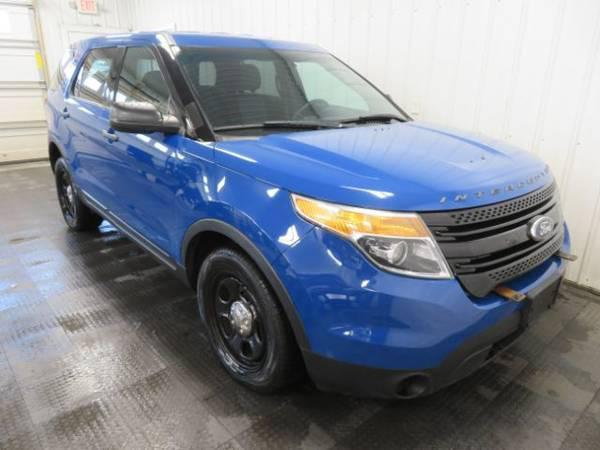Front_Bumper: (267, 227, 578, 403)
Front_Fender: (169, 137, 316, 286)
Front_Right_Door: (108, 113, 191, 278)
Front_Right_Window: (112, 49, 194, 142)
Front_Windshield: (174, 44, 415, 140)
Grille: (420, 178, 565, 293)
Hood: (214, 118, 547, 210)
Rear_Fender: (46, 50, 81, 156)
Rear_Right_Door: (59, 96, 114, 219)
Rear_Right_Window: (69, 49, 124, 114)
Right_Headlight: (291, 191, 454, 279)
Roof: (75, 35, 331, 139)
Wheel: (193, 245, 283, 387), (55, 159, 81, 228)
